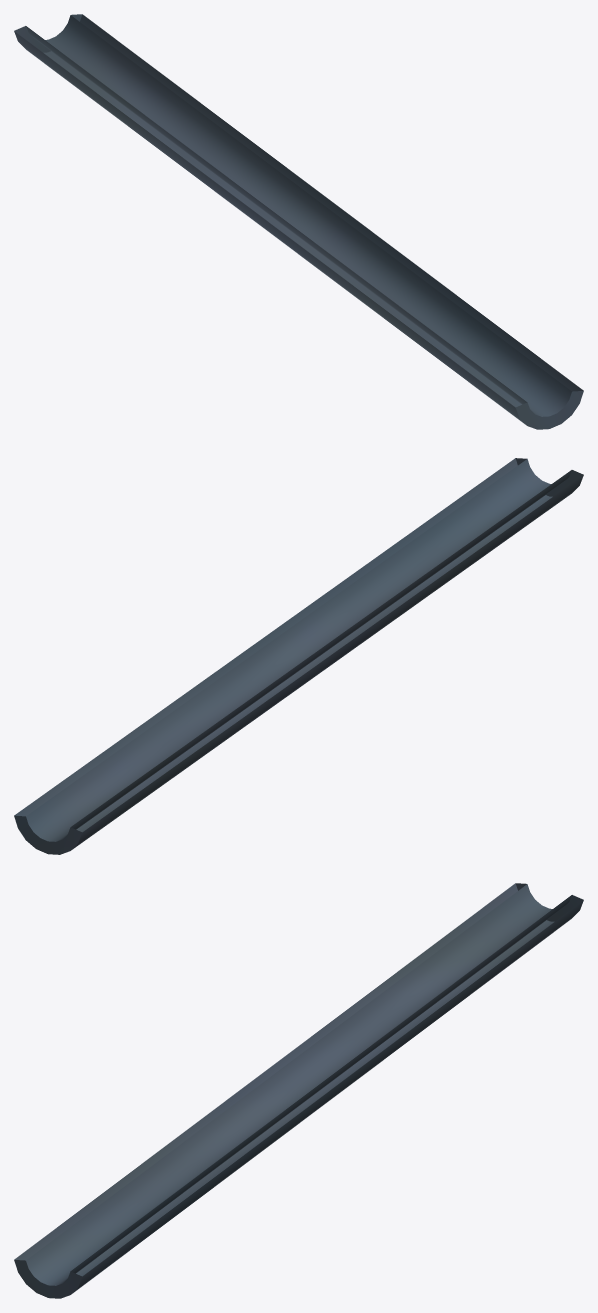
The model's file is CanaletaBoliche_obj.obj.
3 views of the same model, one above another, from view 1: azimuth 30°, elevation 25°; view 2: azimuth 150°, elevation 25°; view 3: azimuth 330°, elevation 25° (orthographic).
Parts seen in each view (by area): view 1: Canaleta; view 2: Canaleta; view 3: Canaleta.
Boxes of the visible parts, <box> form: Canaleta: <box>14,14,583,429</box>; Canaleta: <box>14,458,583,854</box>; Canaleta: <box>14,883,583,1298</box>.
Size of the model in its own units: 3.94 by 2.3 by 50.02.
